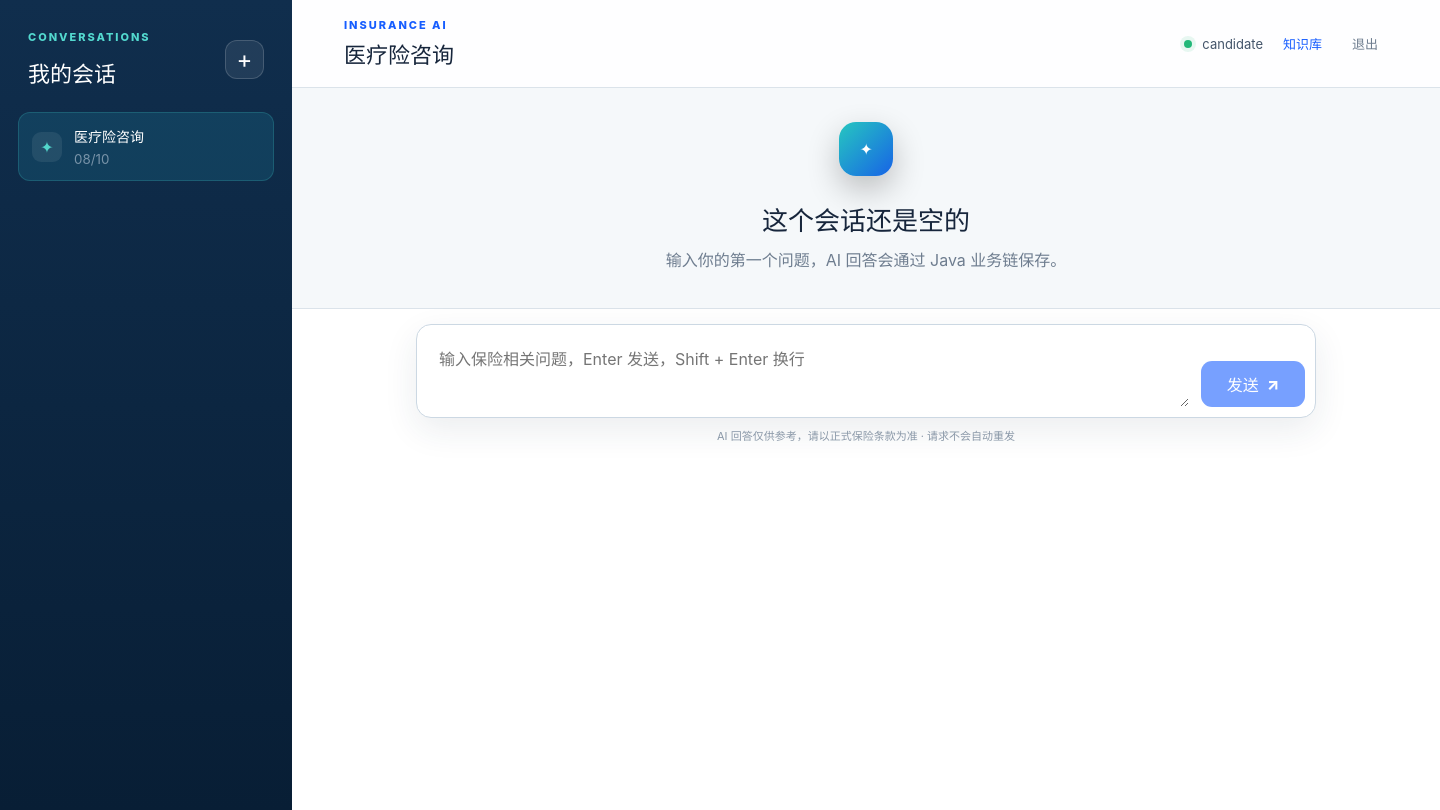
Scenario: ChatView › shows UNKNOWN guidance and traceId without an automatic retry
This screenshot has width=1440, height=810.
In the text box with placeholder "输入保险相关问题，Enter 发送，Shift + Enter 换行": {"x": 808, "y": 371} [427, 335, 1189, 407], type "这次请求会自动重试吗？"
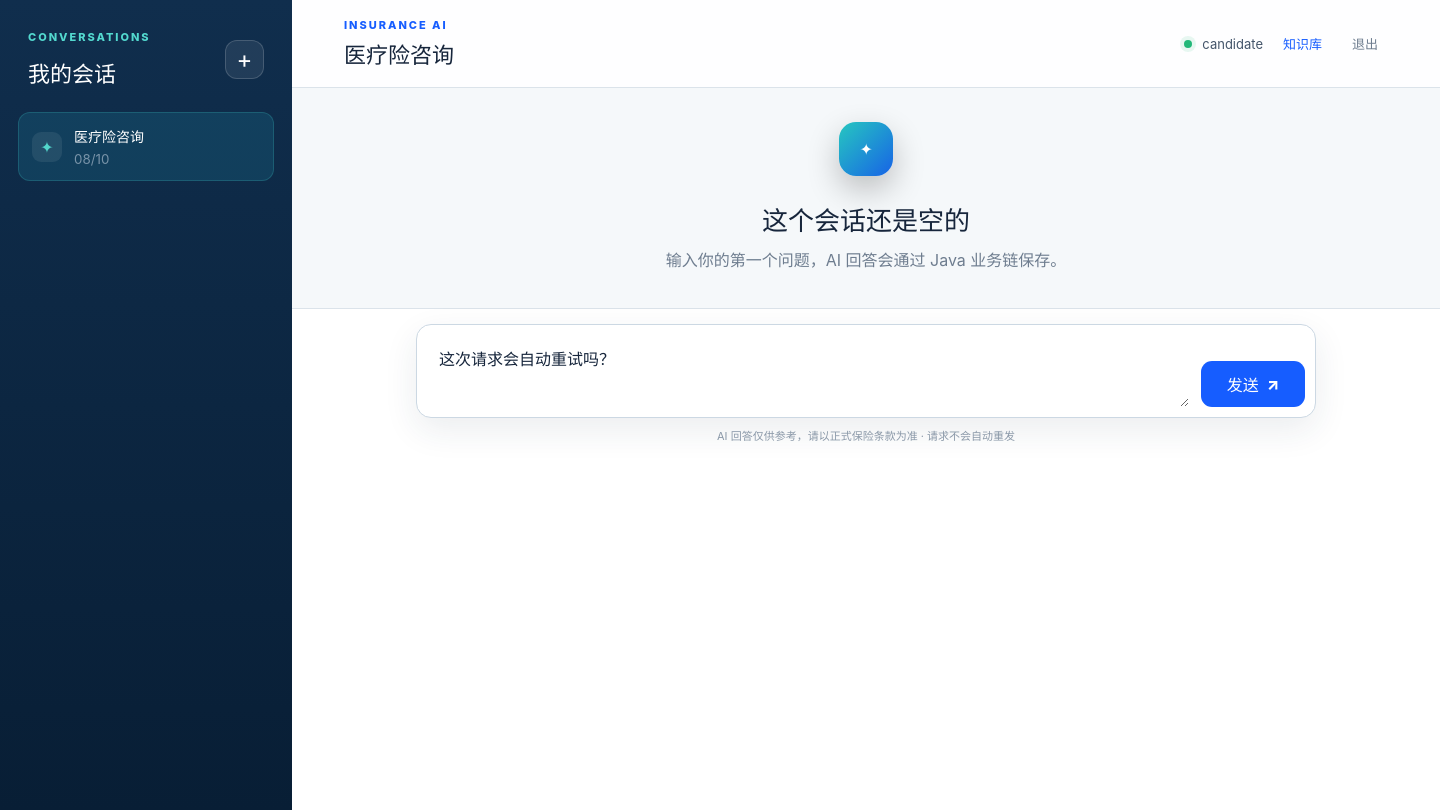
Submit the form with class "chat-composer", box [416, 324, 1316, 418]
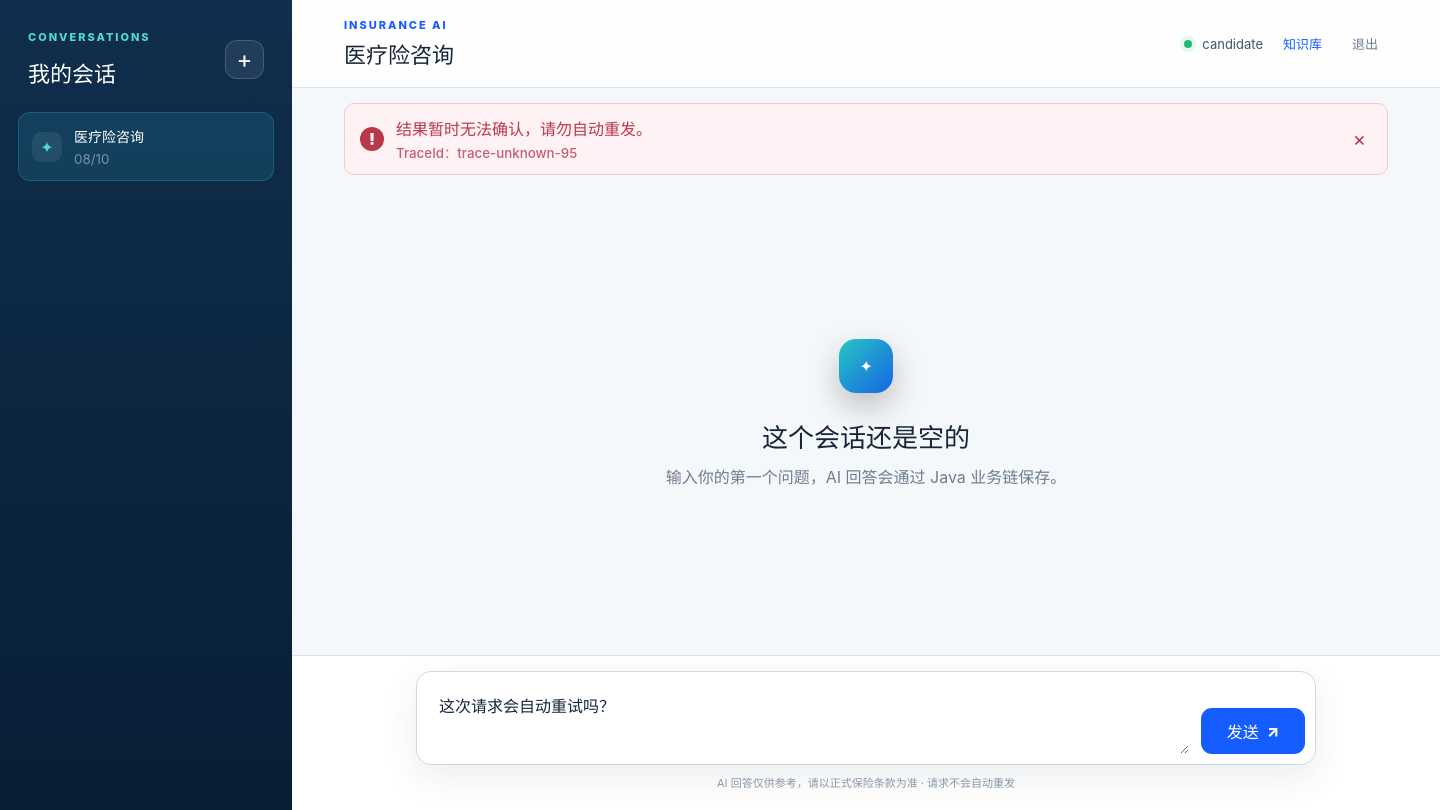
Now the text "结果暂时无法确认" is shown, box [396, 119, 652, 139]
Now the text "trace-unknown-95" is shown, box [396, 145, 577, 161]
